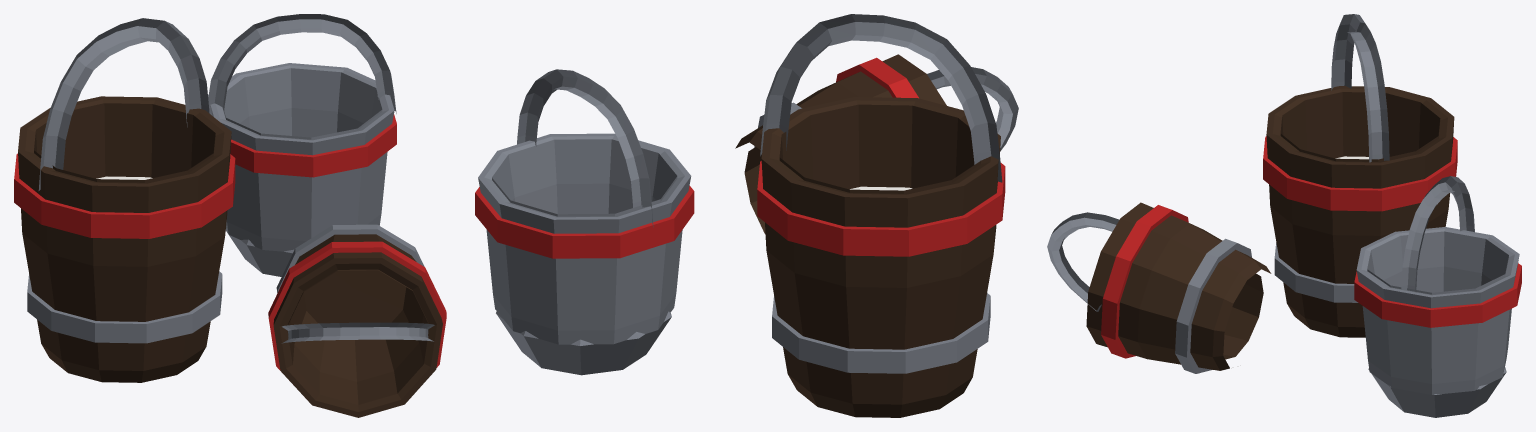
Rendered from ember.glb.
3 views of the same model, side by side, from view 1: azimuth 30°, elevation 25°; view 2: azimuth 150°, elevation 25°; view 3: azimuth 270°, elevation 25° (orthographic). The views are drawn at different scales.
Parts seen in each view (by area): view 1: body (×3), handle-arc (×3), band (×3), hoop (×2), dome; view 2: body (×3), handle-arc (×3), band (×3), hoop, dome; view 3: body (×3), band (×3), handle-arc (×3), hoop (×2), dome.
Boxes of the visible parts, x1,y1,x2,y2 form: body (×3): (18,63,442,417); handle-arc (×3): (38,14,434,343); band (×3): (14,114,446,370); hoop (×2): (27,224,424,343); dome: (225,226,294,276); body (×3): (478,54,1000,417); handle-arc (×3): (517,14,1018,227); band (×3): (475,57,1005,258); hoop: (772,293,990,373); dome: (496,310,671,375); body (×3): (1086,86,1519,394); band (×3): (1101,136,1521,358); handle-arc (×3): (1047,14,1474,311); hoop (×2): (1175,238,1358,373); dome: (1368,367,1506,417).
Bounding box in the file's own units: 0.0544 × 0.043 × 0.0635.
